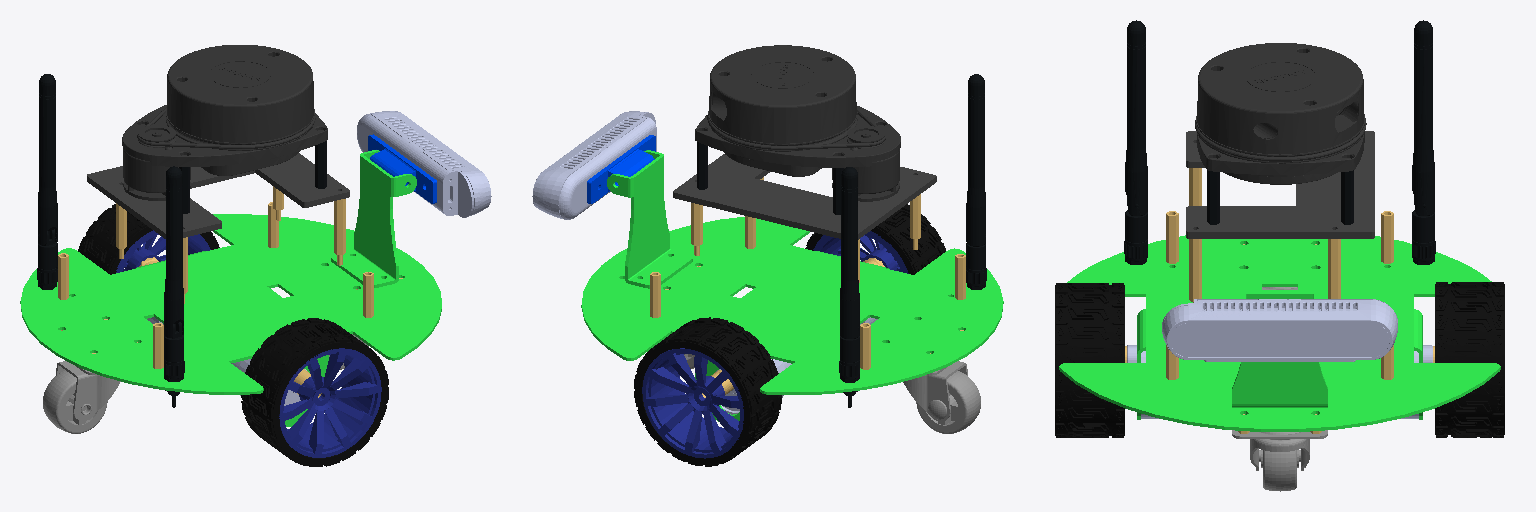
--- Facts derived from the render (not from the file) ---
3 views of the same robot in one strip: view 1: azimuth 30°, elevation 25°; view 2: azimuth 150°, elevation 25°; view 3: azimuth 270°, elevation 25° (orthographic).
Model Jetbot with 21 links and 20 joints (2 continuous, 18 fixed), rooted at base_footprint, posed all joints at 0.
Visible links, largest first — view 1: base_link, base_scan, antenna_link, wheel_right_rim, wheel_right_tire, upper_plate_link, camera_link, bolt1_link, caster_back_link, wheel_left_tire, camera_mount_link, wheel_left_rim (+1 smaller); view 2: base_link, base_scan, upper_plate_link, antenna_link, wheel_left_rim, wheel_left_tire, camera_link, caster_back_link, bolt1_link, wheel_right_tire, camera_mount_link, wheel_right_rim (+1 smaller); view 3: base_link, base_scan, camera_link, antenna_link, wheel_left_tire, wheel_right_tire, upper_plate_link, bolt1_link, caster_front_link, bolt2_link.
Link boxes in pixels (bbox=[...]): base_link: bbox=[20, 150, 441, 426]; base_scan: bbox=[122, 45, 327, 200]; antenna_link: bbox=[37, 74, 184, 407]; wheel_right_rim: bbox=[279, 348, 381, 457]; wheel_right_tire: bbox=[241, 318, 388, 466]; upper_plate_link: bbox=[87, 153, 349, 238]; camera_link: bbox=[357, 111, 491, 217]; bolt1_link: bbox=[58, 186, 402, 368]; caster_back_link: bbox=[43, 361, 120, 433]; wheel_left_tire: bbox=[78, 204, 219, 274]; camera_mount_link: bbox=[368, 134, 436, 203]; wheel_left_rim: bbox=[116, 230, 210, 272]; base_link: bbox=[581, 150, 1003, 421]; base_scan: bbox=[695, 45, 900, 201]; upper_plate_link: bbox=[673, 154, 936, 239]; antenna_link: bbox=[839, 74, 986, 407]; wheel_left_rim: bbox=[642, 348, 743, 458]; wheel_left_tire: bbox=[634, 317, 781, 466]; camera_link: bbox=[532, 111, 656, 219]; caster_back_link: bbox=[903, 361, 980, 433]; bolt1_link: bbox=[650, 177, 965, 369]; wheel_right_tire: bbox=[805, 204, 945, 274]; camera_mount_link: bbox=[587, 135, 655, 203]; wheel_right_rim: bbox=[813, 231, 908, 273]; base_link: bbox=[1059, 235, 1500, 431]; base_scan: bbox=[1195, 43, 1366, 184]; camera_link: bbox=[1162, 299, 1397, 361]; antenna_link: bbox=[1124, 20, 1435, 264]; wheel_left_tire: bbox=[1435, 282, 1504, 437]; wheel_right_tire: bbox=[1055, 283, 1124, 437]; upper_plate_link: bbox=[1186, 131, 1374, 238]; bolt1_link: bbox=[1166, 168, 1393, 433]; caster_front_link: bbox=[1232, 430, 1327, 491]; bolt2_link: bbox=[1207, 170, 1353, 224].
Bounding box of the posed robot: 0.2156 × 0.1878 × 0.1655 m (x, y, z).
Meshes: 20 distinct files referenced, 18 mesh visuals loaded (18 binary STL); not drawn: 2 (reference not matched to a file when rendering).

URDF robot description (Jetbot):
<?xml version="1.0" encoding="utf-8"?>
<!-- This URDF was automatically created by SolidWorks to URDF Exporter! Originally created by Stephen Brawner ([email redacted]) 
     Commit Version: 1.6.0-4-g7f85cfe  Build Version: 1.6.7995.38578
     For more information, please see http://wiki.ros.org/sw_urdf_exporter -->
<robot
  name="Jetbot">
  
  <link name="base_footprint"/>

  <joint name="base_joint" type="fixed">
    <parent link="base_footprint"/>
    <child link="base_link"/>
    <origin xyz="0.0 0.0 0.05" rpy="0 0 0"/>
  </joint>


  <link
    name="base_link">
    <inertial>
      <origin
        xyz="0.00781963845778095 -7.35882317130787E-08 -0.000209926041797086"
        rpy="0 0 0" />
      <mass
        value="0.045584055118095" />
      <inertia
        ixx="7.90379546337164E-05"
        ixy="-6.67110738185195E-13"
        ixz="-2.39290720776838E-07"
        iyy="0.000115926497813917"
        iyz="-1.15368484324182E-10"
        izz="0.000189544079309469" />
    </inertial>
    <visual>
      <origin
        xyz="0 0 0"
        rpy="0 0 0" />
      <geometry>
        <mesh
          filename="package://jetbot_model/meshes/other_parts/base_link.STL" />
      </geometry>
      <material
        name="">
        <color
          rgba="0.223529411764706 1 0.352941176470588 1" />
      </material>
    </visual>
    <collision>
      <origin
        xyz="0 0 0"
        rpy="0 0 0" />
      <geometry>
        <mesh
          filename="package://jetbot_model/meshes/other_parts/base_link.STL" />
      </geometry>
    </collision>
  </link>
  <link
    name="wheel_right_link">
    <inertial>
      <origin
        xyz="1.98363002065771E-08 -8.50421726095174E-10 0.00586401160881991"
        rpy="0 0 0" />
      <mass
        value="0.00172858234067031" />
      <inertia
        ixx="6.56229488257871E-08"
        ixy="-4.0657627162479E-11"
        ixz="3.21252173208187E-14"
        iyy="6.48514677017681E-08"
        iyz="1.99615043771152E-15"
        izz="3.47684231742651E-08" />
    </inertial>
    <visual>
      <origin
        xyz="0 0 0"
        rpy="0 0 0" />
      <geometry>
        <mesh
          filename="package://jetbot_model/meshes/wheels/wheel_right_link.STL" />
      </geometry>
      <material
        name="">
        <color
          rgba="0.952941176470588 0.796078431372549 0.486274509803922 1" />
      </material>
    </visual>
    <collision>
      <origin
        xyz="0 0 0"
        rpy="0 0 0" />
      <geometry>
        <mesh
          filename="package://jetbot_model/meshes/wheels/wheel_right_link.STL" />
      </geometry>
    </collision>
  </link>
  <joint
    name="wheel_right_joint"
    type="continuous">
    <origin
      xyz="0 -0.0796 -0.0149998499189951"
      rpy="-1.57079632679489 0 0" />
    <parent
      link="base_link" />
    <child
      link="wheel_right_link" />
    <axis
      xyz="0 0 1" />
    <limit
      lower="0"
      upper="0"
      effort="0"
      velocity="0" />
  </joint>
  <link
    name="wheel_right_rim">
    <inertial>
      <origin
        xyz="-5.4423268058823E-08 -3.02317271563823E-08 -0.0013175684688612"
        rpy="0 0 0" />
      <mass
        value="0.0150430722977072" />
      <inertia
        ixx="5.42837949690631E-06"
        ixy="3.84011877778841E-12"
        ixz="-6.00504131491743E-12"
        iyy="5.42837483963373E-06"
        iyz="-3.30832951882215E-12"
        izz="8.62999669450023E-06" />
    </inertial>
    <visual>
      <origin
        xyz="0 0 0"
        rpy="0 0 0" />
      <geometry>
        <mesh
          filename="package://jetbot_model/meshes/wheels/wheel_right_rim.STL" />
      </geometry>
      <material
        name="">
        <color
          rgba="0.188235294117647 0.231372549019608 0.588235294117647 1" />
      </material>
    </visual>
    <collision>
      <origin
        xyz="0 0 0"
        rpy="0 0 0" />
      <geometry>
        <mesh
          filename="package://jetbot_model/meshes/wheels/wheel_right_rim.STL" />
      </geometry>
    </collision>
  </link>
  <joint
    name="wheel_right_rim_joint"
    type="fixed">
    <origin
      xyz="0 0 0"
      rpy="0 0 0" />
    <parent
      link="wheel_right_link" />
    <child
      link="wheel_right_rim" />
    <axis
      xyz="0 0 0" />
  </joint>
  <link
    name="wheel_right_tire">
    <inertial>
      <origin
        xyz="2.82158362829299E-05 0.00140580379860784 0.000181962684636737"
        rpy="0 0 0" />
      <mass
        value="0.0254630899937217" />
      <inertia
        ixx="1.28912347647895E-05"
        ixy="7.07465873148456E-10"
        ixz="-9.06345483333125E-12"
        iyy="1.29264691304977E-05"
        iyz="-4.52275733373978E-10"
        izz="2.22597285939851E-05" />
    </inertial>
    <visual>
      <origin
        xyz="0 0 0"
        rpy="0 0 0" />
      <geometry>
        <mesh
          filename="package://jetbot_model/meshes/wheels/wheel_right_tire.STL" />
      </geometry>
      <material
        name="">
        <color
          rgba="0.0980392156862745 0.0980392156862745 0.0980392156862745 1" />
      </material>
    </visual>
    <collision>
      <origin
        xyz="0 0 0"
        rpy="0 0 0" />
      <geometry>
        <mesh
          filename="package://jetbot_model/meshes/wheels/wheel_right_tire.STL" />
      </geometry>
    </collision>
  </link>
  <joint
    name="wheel_right_tire_joint"
    type="fixed">
    <origin
      xyz="0 0 0"
      rpy="0 0 0" />
    <parent
      link="wheel_right_link" />
    <child
      link="wheel_right_tire" />
    <axis
      xyz="0 0 0" />
  </joint>
  <link
    name="wheel_left_link">
    <inertial>
      <origin
        xyz="2.3009393140816E-09 1.97207421781531E-08 -0.00586401160882002"
        rpy="0 0 0" />
      <mass
        value="0.00172858234067031" />
      <inertia
        ixx="6.48580948386293E-08"
        ixy="8.1986795876624E-11"
        ixz="-7.05727936679317E-15"
        iyy="6.56163216889261E-08"
        iyz="-3.14039638015827E-14"
        izz="3.47684231742651E-08" />
    </inertial>
    <visual>
      <origin
        xyz="0 0 0"
        rpy="0 0 0" />
      <geometry>
        <mesh
          filename="package://jetbot_model/meshes/wheels/wheel_left_link.STL" />
      </geometry>
      <material
        name="">
        <color
          rgba="0.952941176470588 0.796078431372549 0.486274509803922 1" />
      </material>
    </visual>
    <collision>
      <origin
        xyz="0 0 0"
        rpy="0 0 0" />
      <geometry>
        <mesh
          filename="package://jetbot_model/meshes/wheels/wheel_left_link.STL" />
      </geometry>
    </collision>
  </link>
  <joint
    name="wheel_left_joint"
    type="continuous">
    <origin
      xyz="0 0.0796 -0.0149998499189951"
      rpy="-1.5707963267949 0 0" />
    <parent
      link="base_link" />
    <child
      link="wheel_left_link" />
    <axis
      xyz="0 0 1" />
    <limit
      lower="0"
      upper="0"
      effort="0"
      velocity="0" />
  </joint>
  <link
    name="wheel_left_rim">
    <inertial>
      <origin
        xyz="-3.84671055148056E-08 -4.89502935754893E-08 0.00131756846886109"
        rpy="0 0 0" />
      <mass
        value="0.0150430722977072" />
      <inertia
        ixx="5.42837615703599E-06"
        ixy="4.37566736479211E-12"
        ixz="4.21736389882695E-12"
        iyy="5.4283781795041E-06"
        iyz="5.40549773271856E-12"
        izz="8.62999669450022E-06" />
    </inertial>
    <visual>
      <origin
        xyz="0 0 0"
        rpy="0 0 0" />
      <geometry>
        <mesh
          filename="package://jetbot_model/meshes/wheels/wheel_left_rim.STL" />
      </geometry>
      <material
        name="">
        <color
          rgba="0.188235294117647 0.231372549019608 0.588235294117647 1" />
      </material>
    </visual>
    <collision>
      <origin
        xyz="0 0 0"
        rpy="0 0 0" />
      <geometry>
        <mesh
          filename="package://jetbot_model/meshes/wheels/wheel_left_rim.STL" />
      </geometry>
    </collision>
  </link>
  <joint
    name="wheel_left_rim_joint"
    type="fixed">
    <origin
      xyz="0 0 0"
      rpy="0 0 0" />
    <parent
      link="wheel_left_link" />
    <child
      link="wheel_left_rim" />
    <axis
      xyz="0 0 0" />
  </joint>
  <link
    name="wheel_left_tire">
    <inertial>
      <origin
        xyz="0.00139253923871222 -0.000194717544789592 -0.000181962684636799"
        rpy="0 0 0" />
      <mass
        value="0.0254630899937217" />
      <inertia
        ixx="1.29258070859562E-05"
        ixy="-4.83620972217383E-09"
        ixz="4.48006012970371E-10"
        iyy="1.28918968093311E-05"
        iyz="-6.26585791959336E-11"
        izz="2.22597285939851E-05" />
    </inertial>
    <visual>
      <origin
        xyz="0 0 0"
        rpy="0 0 0" />
      <geometry>
        <mesh
          filename="package://jetbot_model/meshes/wheels/wheel_left_tire.STL" />
      </geometry>
      <material
        name="">
        <color
          rgba="0.0980392156862745 0.0980392156862745 0.0980392156862745 1" />
      </material>
    </visual>
    <collision>
      <origin
        xyz="0 0 0"
        rpy="0 0 0" />
      <geometry>
        <mesh
          filename="package://jetbot_model/meshes/wheels/wheel_left_tire.STL" />
      </geometry>
    </collision>
  </link>
  <joint
    name="wheel_left_tire_joint"
    type="fixed">
    <origin
      xyz="0 0 0"
      rpy="0 0 0" />
    <parent
      link="wheel_left_link" />
    <child
      link="wheel_left_tire" />
    <axis
      xyz="0 0 0" />
  </joint>
  <link
    name="camera_mount_link">
    <inertial>
      <origin
        xyz="0.0911446606387492 -5.00000000013164E-05 0.0475547495822917"
        rpy="0 0 0" />
      <mass
        value="0.00369253564371622" />
      <inertia
        ixx="7.11782812945527E-07"
        ixy="-3.32390099825911E-21"
        ixz="1.1528802234911E-23"
        iyy="7.28653732283989E-08"
        iyz="1.79708825096588E-22"
        izz="7.14964958537606E-07" />
    </inertial>
    <visual>
      <origin
        xyz="0 0 0"
        rpy="0 0 0" />
      <geometry>
        <mesh
          filename="package://jetbot_model/meshes/realsense/camera_mount_link.STL" />
      </geometry>
      <material
        name="">
        <color
          rgba="0 0.345098039215686 1 1" />
      </material>
    </visual>
    <collision>
      <origin
        xyz="0 0 0"
        rpy="0 0 0" />
      <geometry>
        <mesh
          filename="package://jetbot_model/meshes/realsense/camera_mount_link.STL" />
      </geometry>
    </collision>
  </link>
  <joint
    name="camera_mount_joint"
    type="fixed">
    <origin
      xyz="0 0 0"
      rpy="0 0 0" />
    <parent
      link="base_link" />
    <child
      link="camera_mount_link" />
    <axis
      xyz="0 0 0" />
  </joint>
  <link
    name="camera_link">
    <inertial>
      <origin
        xyz="0.104505569284287 0.00251089945216483 0.0474874189920585"
        rpy="0 0 0" />
      <mass
        value="0.0294229179644187" />
      <inertia
        ixx="2.18815235786117E-05"
        ixy="2.75098516448229E-07"
        ixz="7.68689291749069E-11"
        iyy="1.35440746294821E-06"
        iyz="1.72750913510838E-09"
        izz="2.09152095144145E-05" />
    </inertial>
    <visual>
      <origin
        xyz="0 0 0"
        rpy="0 0 0" />
      <geometry>
        <mesh
          filename="package://jetbot_model/meshes/realsense/camera_link.STL" />
      </geometry>
      <material
        name="">
        <color
          rgba="0.792156862745098 0.819607843137255 0.933333333333333 1" />
      </material>
    </visual>
    <collision>
      <origin
        xyz="0 0 0"
        rpy="0 0 0" />
      <geometry>
        <mesh
          filename="package://jetbot_model/meshes/realsense/camera_link.STL" />
      </geometry>
    </collision>
  </link>
  <joint
    name="camera_joint"
    type="fixed">
    <origin
      xyz="0 0 0"
      rpy="0 0 0" />
    <parent
      link="camera_mount_link" />
    <child
      link="camera_link" />
    <axis
      xyz="0 0 0" />
  </joint>
  <link
    name="caster_back_link">
    <inertial>
      <origin
        xyz="-0.00973608929282141 0.0160138996536298 0.000112305501830591"
        rpy="0 0 0" />
      <mass
        value="0.0122543299069677" />
      <inertia
        ixx="1.03465897444937E-06"
        ixy="4.08895923420779E-08"
        ixz="2.41090924462367E-13"
        iyy="1.24920234693942E-06"
        iyz="-2.2498975199297E-12"
        izz="1.2900058431033E-06" />
    </inertial>
    <visual>
      <origin
        xyz="0 0 0"
        rpy="0 0 0" />
      <geometry>
        <mesh
          filename="package://jetbot_model/meshes/other_parts/caster_back_link.STL" />
      </geometry>
      <material
        name="">
        <color
          rgba="0.627450980392157 0.627450980392157 0.627450980392157 1" />
      </material>
    </visual>
    <collision>
      <origin
        xyz="0 0 0"
        rpy="0 0 0" />
      <geometry>
        <mesh
          filename="package://jetbot_model/meshes/other_parts/caster_back_link.STL" />
      </geometry>
    </collision>
  </link>
  <joint
    name="caster_back_joint"
    type="fixed">
    <origin
      xyz="-0.072 0 -0.0103157534698361"
      rpy="-1.5707963267949 0 0" />
    <parent
      link="base_link" />
    <child
      link="caster_back_link" />
    <axis
      xyz="0 0 0" />
  </joint>
  <link
    name="caster_front_link">
    <inertial>
      <origin
        xyz="-0.00973608929282145 0.0136318109633328 0.00011230550183057"
        rpy="0 0 0" />
      <mass
        value="0.0122543299069677" />
      <inertia
        ixx="1.03465897444937E-06"
        ixy="4.08895923420787E-08"
        ixz="2.41090924810355E-13"
        iyy="1.24920234693941E-06"
        iyz="-2.24989751966103E-12"
        izz="1.29000584310329E-06" />
    </inertial>
    <visual>
      <origin
        xyz="0 0 0"
        rpy="0 0 0" />
      <geometry>
        <mesh
          filename="package://jetbot_model/meshes/other_parts/caster_front_link.STL" />
      </geometry>
      <material
        name="">
        <color
          rgba="0.627450980392157 0.627450980392157 0.627450980392157 1" />
      </material>
    </visual>
    <collision>
      <origin
        xyz="0 0 0"
        rpy="0 0 0" />
      <geometry>
        <mesh
          filename="package://jetbot_model/meshes/other_parts/caster_front_link.STL" />
      </geometry>
    </collision>
  </link>
  <joint
    name="caster_front_joint"
    type="fixed">
    <origin
      xyz="0.072 0 -0.0126978421601332"
      rpy="-1.5707963267949 0 0" />
    <parent
      link="base_link" />
    <child
      link="caster_front_link" />
    <axis
      xyz="0 0 0" />
  </joint>
  <link
    name="imu_link">
    <inertial>
      <origin
        xyz="0.00785413895950092 0.000589850419601447 -0.00363505947193948"
        rpy="0 0 0" />
      <mass
        value="0.0511068131705108" />
      <inertia
        ixx="3.02554869448374E-05"
        ixy="-6.81147489939493E-08"
        ixz="4.3124398785099E-10"
        iyy="3.79539557275355E-05"
        iyz="-1.32997366822506E-10"
        izz="6.69860000874932E-05" />
    </inertial>
    <visual>
      <origin
        xyz="0 0 0"
        rpy="0 0 0" />
      <geometry>
        <mesh
          filename="package://jetbot_model/meshes/other_parts/imu_link.STL" />
      </geometry>
      <material
        name="">
        <color
          rgba="0.5 0.5 0.5 1" />
      </material>
    </visual>
    <collision>
      <origin
        xyz="0 0 0"
        rpy="0 0 0" />
      <geometry>
        <mesh
          filename="package://jetbot_model/meshes/other_parts/imu_link.STL" />
      </geometry>
    </collision>
  </link>
  <joint
    name="imu_joint"
    type="fixed">
    <origin
      xyz="-0.00987996130762421 -0.000612791192577962 0.02311148"
      rpy="0 0 0" />
    <parent
      link="base_link" />
    <child
      link="imu_link" />
    <axis
      xyz="0 0 0" />
  </joint>
  <link
    name="base_scan">
    <inertial>
      <origin
        xyz="-0.013480243056544 0.000481284255951939 -0.00102869936495666"
        rpy="0 0 0" />
      <mass
        value="0.0634432857550415" />
      <inertia
        ixx="1.68383298504221E-05"
        ixy="-1.0448046286551E-07"
        ixz="4.28825686069912E-07"
        iyy="2.10729825490332E-05"
        iyz="-9.43318165957986E-09"
        izz="3.56809250260432E-05" />
    </inertial>
    <visual>
      <origin
        xyz="0 0 0"
        rpy="0 0 0" />
      <geometry>
        <mesh
          filename="package://jetbot_model/meshes/other_parts/base_scan.STL" />
      </geometry>
      <material
        name="">
        <color
          rgba="0.250980392156863 0.250980392156863 0.250980392156863 1" />
      </material>
    </visual>
    <collision>
      <origin
        xyz="0 0 0"
        rpy="0 0 0" />
      <geometry>
        <mesh
          filename="package://jetbot_model/meshes/other_parts/base_scan.STL" />
      </geometry>
    </collision>
  </link>
  <joint
    name="scan_joint"
    type="fixed">
    <origin
      xyz="0.005050049260789 0.000300068757988995 0.092186480000001"
      rpy="0 0 0" />
    <parent
      link="base_link" />
    <child
      link="base_scan" />
    <axis
      xyz="0 0 0" />
  </joint>
  <link
    name="left_motor_link">
    <inertial>
      <origin
        xyz="-2.95081696598254E-07 0.0340253884275023 -0.0216175641159498"
        rpy="0 0 0" />
      <mass
        value="0.0142497272964593" />
      <inertia
        ixx="1.363828934402E-06"
        ixy="-1.47318833570828E-11"
        ixz="-3.04947037598095E-10"
        iyy="2.22876633823434E-06"
        iyz="7.05904980580848E-09"
        izz="1.38872041914448E-06" />
    </inertial>
    <visual>
      <origin
        xyz="0 0 0"
        rpy="0 0 0" />
      <geometry>
        <mesh
          filename="package://jetbot_model/meshes/other_parts/left_motor_link.STL" />
      </geometry>
      <material
        name="">
        <color
          rgba="0.792156862745098 0.819607843137255 0.933333333333333 1" />
      </material>
    </visual>
    <collision>
      <origin
        xyz="0 0 0"
        rpy="0 0 0" />
      <geometry>
        <mesh
          filename="package://jetbot_model/meshes/other_parts/left_motor_link.STL" />
      </geometry>
    </collision>
  </link>
  <joint
    name="left_motor_joint"
    type="fixed">
    <origin
      xyz="0 0 0"
      rpy="0 0 0" />
    <parent
      link="base_link" />
    <child
      link="left_motor_link" />
    <axis
      xyz="0 0 0" />
  </joint>
  <link
    name="right_motor_link">
    <inertial>
      <origin
        xyz="2.9508169580722E-07 -0.0340253884275023 -0.0216175641159498"
        rpy="0 0 0" />
      <mass
        value="0.0142497272964593" />
      <inertia
        ixx="1.36382893440199E-06"
        ixy="-1.4731883386706E-11"
        ixz="3.0494703759845E-10"
        iyy="2.22876633823434E-06"
        iyz="-7.05904980580746E-09"
        izz="1.38872041914447E-06" />
    </inertial>
    <visual>
      <origin
        xyz="0 0 0"
        rpy="0 0 0" />
      <geometry>
        <mesh
          filename="package://jetbot_model/meshes/other_parts/right_motor_link.STL" />
      </geometry>
      <material
        name="">
        <color
          rgba="0.792156862745098 0.819607843137255 0.933333333333333 1" />
      </material>
    </visual>
    <collision>
      <origin
        xyz="0 0 0"
        rpy="0 0 0" />
      <geometry>
        <mesh
          filename="package://jetbot_model/meshes/other_parts/right_motor_link.STL" />
      </geometry>
    </collision>
  </link>
  <joint
    name="right_motor_joint"
    type="fixed">
    <origin
      xyz="0 0 0"
      rpy="0 0 0" />
    <parent
      link="base_link" />
    <child
      link="right_motor_link" />
    <axis
      xyz="0 0 0" />
  </joint>
  <link
    name="upper_plate_link">
    <inertial>
      <origin
        xyz="-0.00767109086663368 0.00605296729060913 0.0621864800000008"
        rpy="0 0 0" />
      <mass
        value="0.017501498901108" />
      <inertia
        ixx="8.93579854534511E-06"
        ixy="-2.74359099373368E-07"
        ixz="4.81575673334949E-19"
        iyy="1.85512486025031E-05"
        iyz="7.07344062963383E-21"
        izz="2.74607948994966E-05" />
    </inertial>
    <visual>
      <origin
        xyz="0 0 0"
        rpy="0 0 0" />
      <geometry>
        <mesh
          filename="package://jetbot_model/meshes/other_parts/upper_plate_link.STL" />
      </geometry>
      <material
        name="">
        <color
          rgba="0.3 0.3 0.3 1" />
      </material>
    </visual>
    <collision>
      <origin
        xyz="0 0 0"
        rpy="0 0 0" />
      <geometry>
        <mesh
          filename="package://jetbot_model/meshes/other_parts/upper_plate_link.STL" />
      </geometry>
    </collision>
  </link>
  <joint
    name="upper_plate_joint"
    type="fixed">
    <origin
      xyz="0 0 0"
      rpy="0 0 0" />
    <parent
      link="base_link" />
    <child
      link="upper_plate_link" />
    <axis
      xyz="0 0 0" />
  </joint>
  <link
    name="antenna_link">
    <inertial>
      <origin
        xyz="-0.0660028995154912 4.40577031377808E-05 0.046811826812688"
        rpy="0 0 0" />
      <mass
        value="0.0134623075785536" />
      <inertia
        ixx="5.56374948010225E-06"
        ixy="-1.03911483629354E-10"
        ixz="-1.35565928440356E-09"
        iyy="5.56559707819264E-06"
        iyz="2.22326930039963E-08"
        izz="1.27639331293959E-07" />
    </inertial>
    <visual>
      <origin
        xyz="0 0 0"
        rpy="0 0 0" />
      <geometry>
        <mesh
          filename="package://jetbot_model/meshes/other_parts/antenna_link.STL" />
      </geometry>
      <material
        name="">
        <color
          rgba="0.0941176470588235 0.109803921568627 0.12156862745098 1" />
      </material>
    </visual>
    <collision>
      <origin
        xyz="0 0 0"
        rpy="0 0 0" />
      <geometry>
        <mesh
          filename="package://jetbot_model/meshes/other_parts/antenna_link.STL" />
      </geometry>
    </collision>
  </link>
  <joint
    name="antenna_joint"
    type="fixed">
    <origin
      xyz="0 0 0"
      rpy="0 0 0" />
    <parent
      link="base_link" />
    <child
      link="antenna_link" />
    <axis
      xyz="0 0 0" />
  </joint>
  <link
    name="bolt1_link">
    <inertial>
      <origin
        xyz="-0.00455766525705633 -0.00317236412008241 0.0247802088927017"
        rpy="0 0 0" />
      <mass
        value="0.00350899316323701" />
      <inertia
        ixx="2.155192655442E-07"
        ixy="9.56888278033086E-24"
        ixz="-1.90766612358315E-21"
        iyy="2.155192655442E-07"
        iyz="-1.87384696573834E-23"
        izz="1.35592340647674E-08" />
    </inertial>
    <visual>
      <origin
        xyz="0 0 0"
        rpy="0 0 0" />
      <geometry>
        <mesh
          filename="package://jetbot_model/meshes/other_parts/bolt1_link.STL" />
      </geometry>
      <material
        name="">
        <color
          rgba="0.952941176470588 0.796078431372549 0.486274509803922 1" />
      </material>
    </visual>
    <collision>
      <origin
        xyz="0 0 0"
        rpy="0 0 0" />
      <geometry>
        <mesh
          filename="package://jetbot_model/meshes/other_parts/bolt1_link.STL" />
      </geometry>
    </collision>
  </link>
  <joint
    name="bolt1_joint"
    type="fixed">
    <origin
      xyz="0 0 0"
      rpy="0 0 0" />
    <parent
      link="base_link" />
    <child
      link="bolt1_link" />
    <axis
      xyz="0 0 0" />
  </joint>
  <link
    name="bolt2_link">
    <inertial>
      <origin
        xyz="-0.00194995073921093 0.000300068757989755 0.07618648"
        rpy="0 0 0" />
      <mass
        value="0.00138168957720949" />
      <inertia
        ixx="7.45830222388665E-08"
        ixy="3.22236047148893E-24"
        ixz="-2.87219091256268E-24"
        iyy="7.45830222388665E-08"
        iyz="-7.36261831006086E-24"
        izz="5.24004685174395E-09" />
    </inertial>
    <visual>
      <origin
        xyz="0 0 0"
        rpy="0 0 0" />
      <geometry>
        <mesh
          filename="package://jetbot_model/meshes/other_parts/bolt2_link.STL" />
      </geometry>
      <material
        name="">
        <color
          rgba="0.0941176470588235 0.109803921568627 0.12156862745098 1" />
      </material>
    </visual>
    <collision>
      <origin
        xyz="0 0 0"
        rpy="0 0 0" />
      <geometry>
        <mesh
          filename="package://jetbot_model/meshes/other_parts/bolt2_link.STL" />
      </geometry>
    </collision>
  </link>
  <joint
    name="bolt2_joint"
    type="fixed">
    <origin
      xyz="0 0 0"
      rpy="0 0 0" />
    <parent
      link="base_link" />
    <child
      link="bolt2_link" />
    <axis
      xyz="0 0 0" />
  </joint>
  <link
    name="nano_link">
    <inertial>
      <origin
        xyz="-0.00451688299579642 -0.00383913355729881 0.0407445974225003"
        rpy="0 0 0" />
      <mass
        value="0.0559886683886946" />
      <inertia
        ixx="1.11286118138229E-05"
        ixy="-6.96076101617625E-09"
        ixz="1.44681908116963E-07"
        iyy="2.01937826489502E-05"
        iyz="-1.30775142928514E-08"
        izz="2.98989437667499E-05" />
    </inertial>
    <visual>
      <origin
        xyz="0 0 0"
        rpy="0 0 0" />
      <geometry>
        <mesh
          filename="package://jetbot_model/meshes/other_parts/nano_link.STL" />
      </geometry>
      <material
        name="">
        <color
          rgba="0.4 0.4 0.4 1" />
      </material>
    </visual>
    <collision>
      <origin
        xyz="0 0 0"
        rpy="0 0 0" />
      <geometry>
        <mesh
          filename="package://jetbot_model/meshes/other_parts/nano_link.STL" />
      </geometry>
    </collision>
  </link>
  <joint
    name="nano_joint"
    type="fixed">
    <origin
      xyz="0 0 0"
      rpy="0 0 0" />
    <parent
      link="base_link" />
    <child
      link="nano_link" />
    <axis
      xyz="0 0 0" />
  </joint>
</robot>
